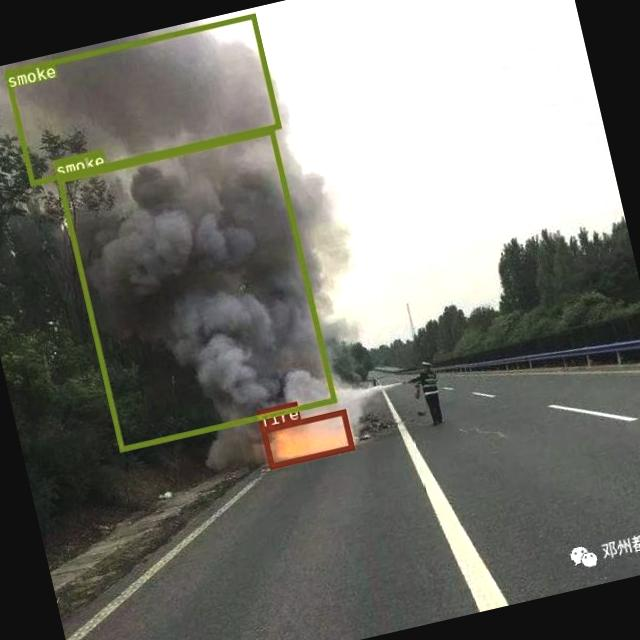fire: (259, 408, 353, 468)
smoke: (56, 127, 336, 451), (2, 12, 280, 185)
